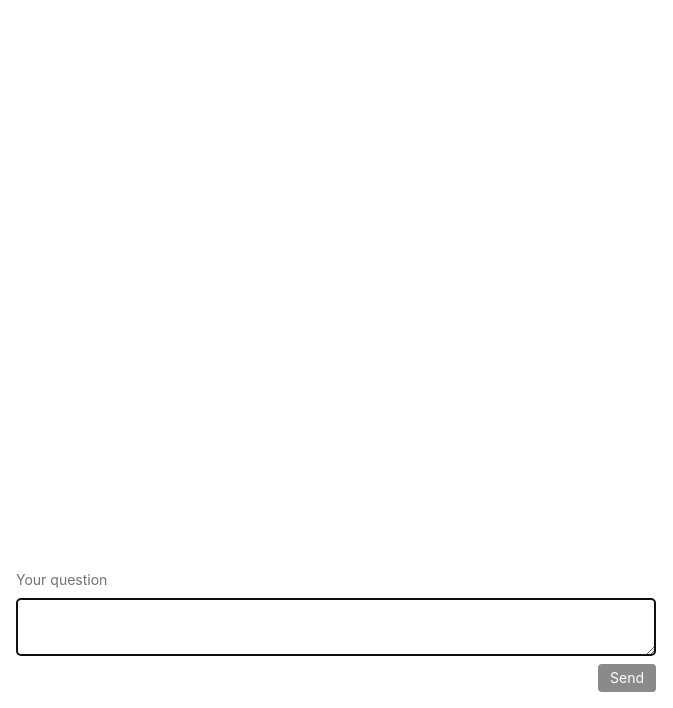
Scenario: Chat (jsdom) › sends the conversationId from meta with the second message
The width and height of the screenshot is (673, 708).
Type "first" into the text box labelled "Your question". click: (336, 627)
box: [16,598,656,656]
Then press Enter
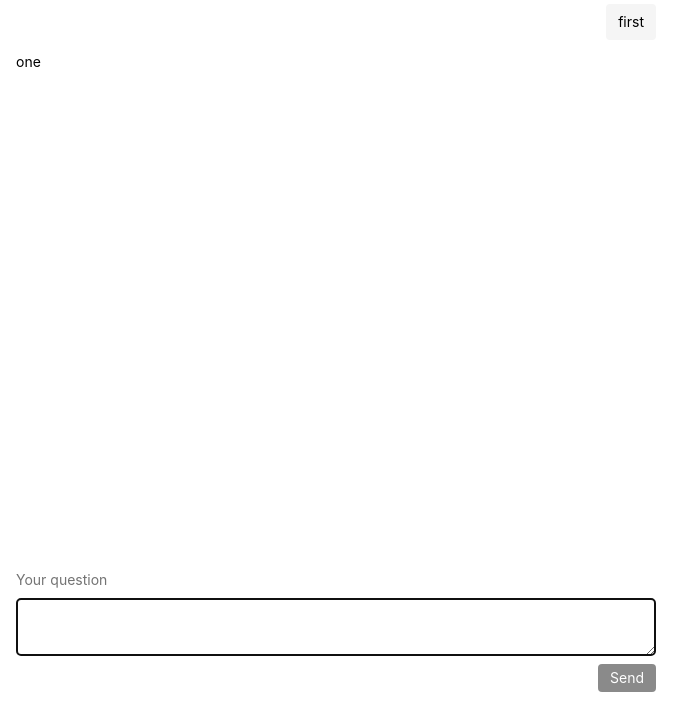
Expected: the text "one" is shown, [16,52,41,72]
Type "second" into the text box labelled "Your question". click: (336, 627)
box: [16,598,656,656]
Then press Enter
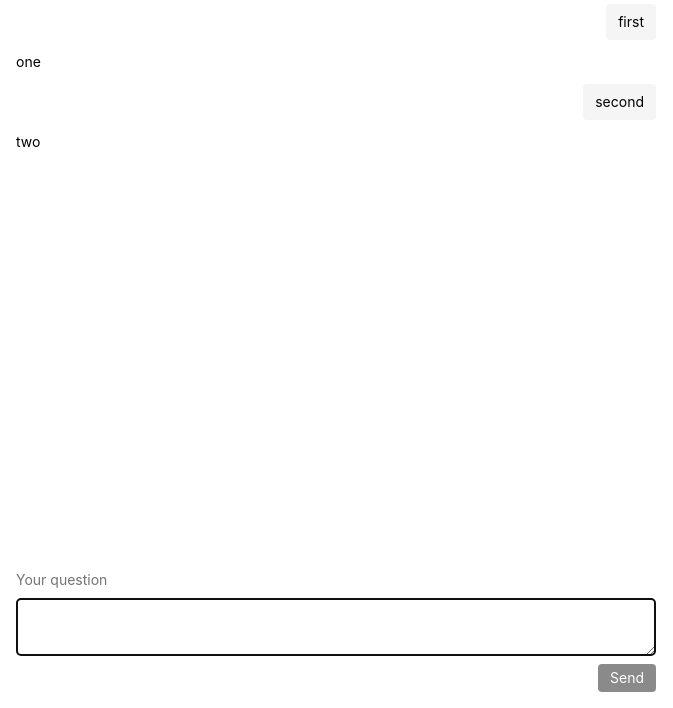
Expected: the text "two" is shown, [16,132,40,152]
